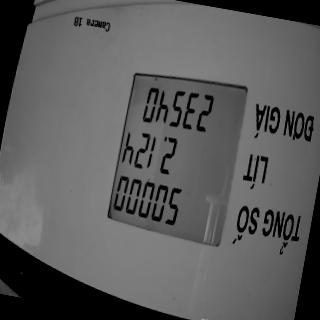screen: (101, 66, 252, 255)
